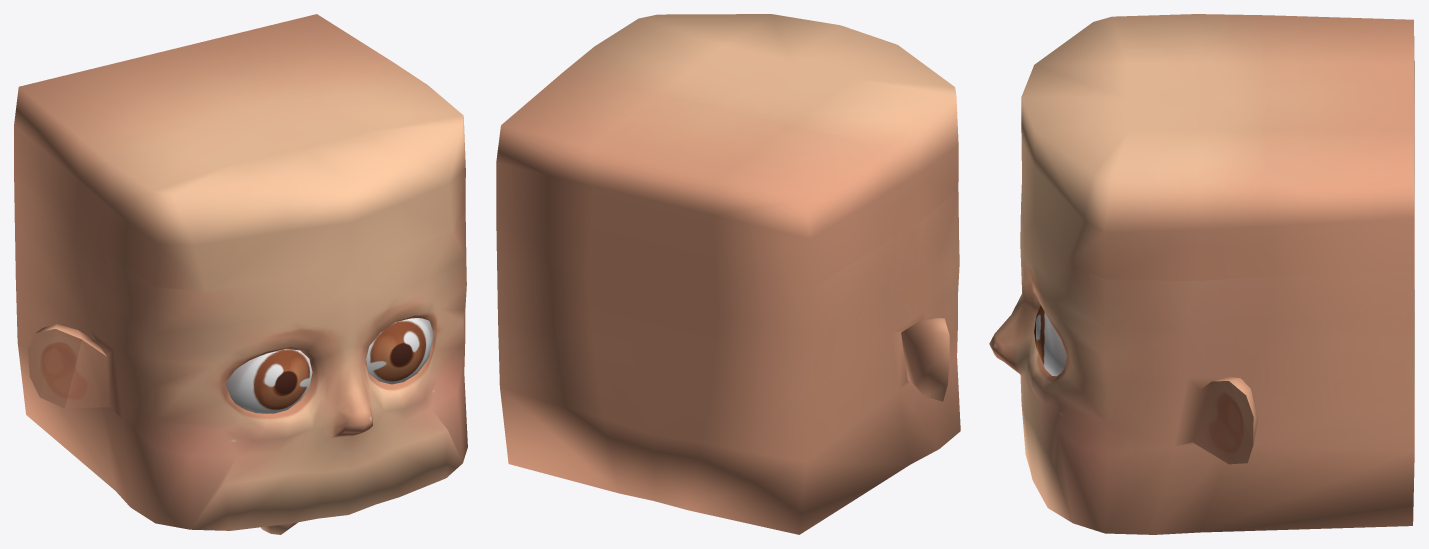
The model's file is squareHead.fbx.
The picture shows the model from 3 angles, left to right: view 1: azimuth 30°, elevation 25°; view 2: azimuth 150°, elevation 25°; view 3: azimuth 270°, elevation 25°; orthographic projection. The views are drawn at different scales.
Visible parts, largest first — view 1: squareHead; view 2: squareHead; view 3: squareHead.
Part boxes in pixels (left/top/right/bottom): squareHead: left=14, top=14, right=467, bottom=534; squareHead: left=496, top=14, right=960, bottom=534; squareHead: left=989, top=14, right=1414, bottom=534.
Bounding box in the file's own units: 39.95 × 35.81 × 31.96.
